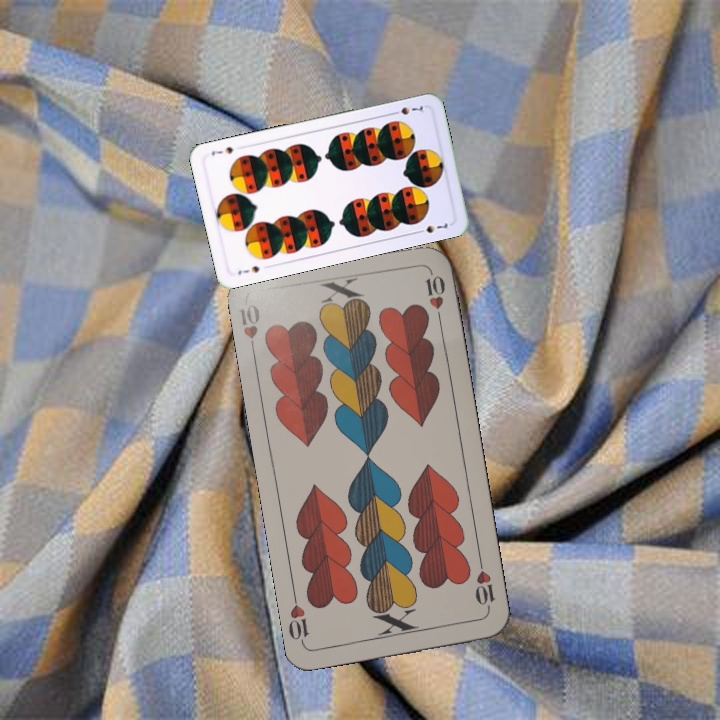H10: (471, 555, 498, 614), (236, 300, 263, 359)
S7: (387, 102, 426, 117), (234, 262, 262, 278)
